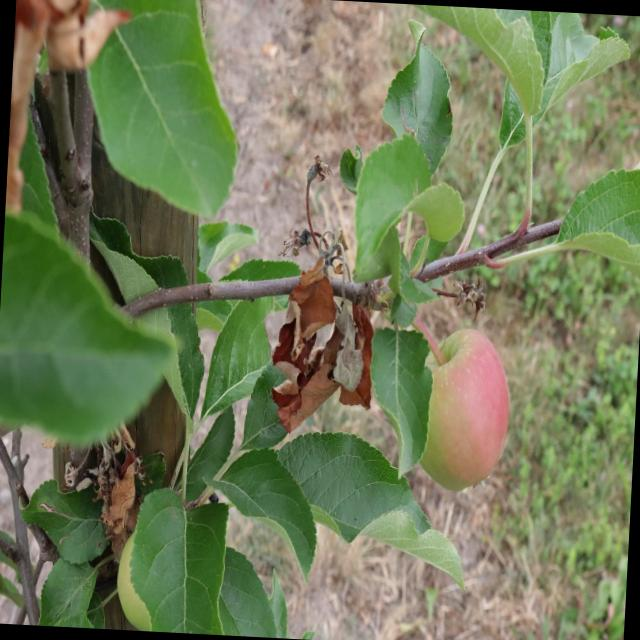-FireBlight-: (273, 249, 387, 420), (7, 0, 49, 224), (83, 441, 142, 543)
